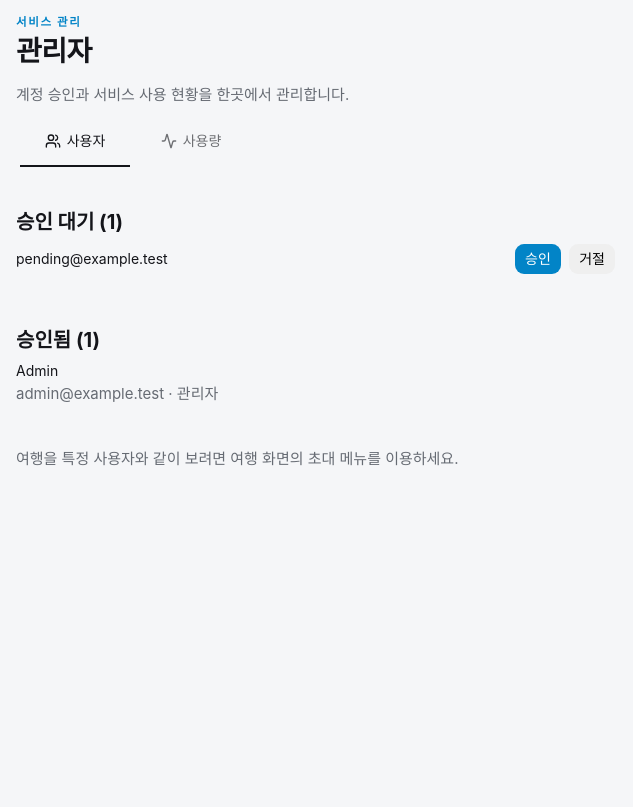
Test: administrator usage › shows a clear empty state when monitoring has no request series
The width and height of the screenshot is (633, 807).
Click the tab "사용량". click: click(191, 141)
box: top-left (135, 119), bottom-right (247, 163)
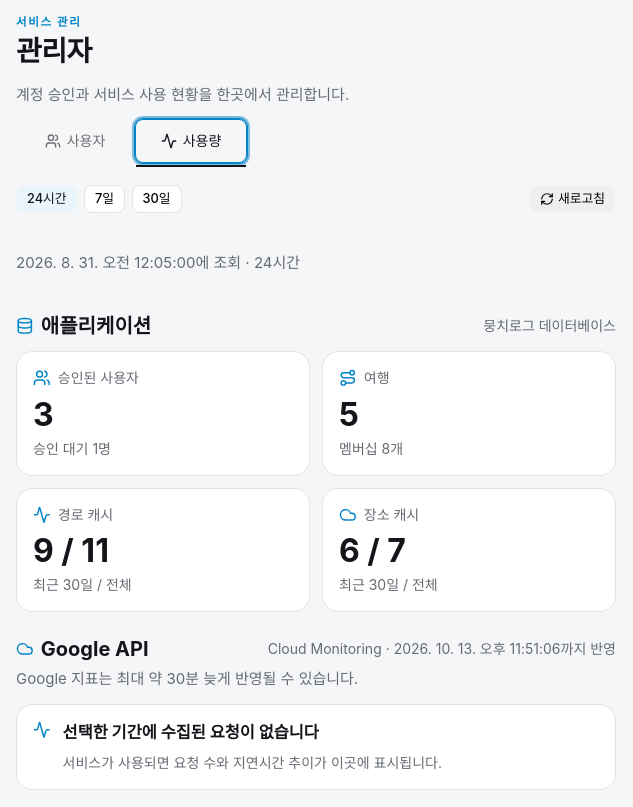
Expected: the heading "선택한 기간에 수집된 요청이 없습니다" is shown, top-left (63, 722), bottom-right (319, 742)
